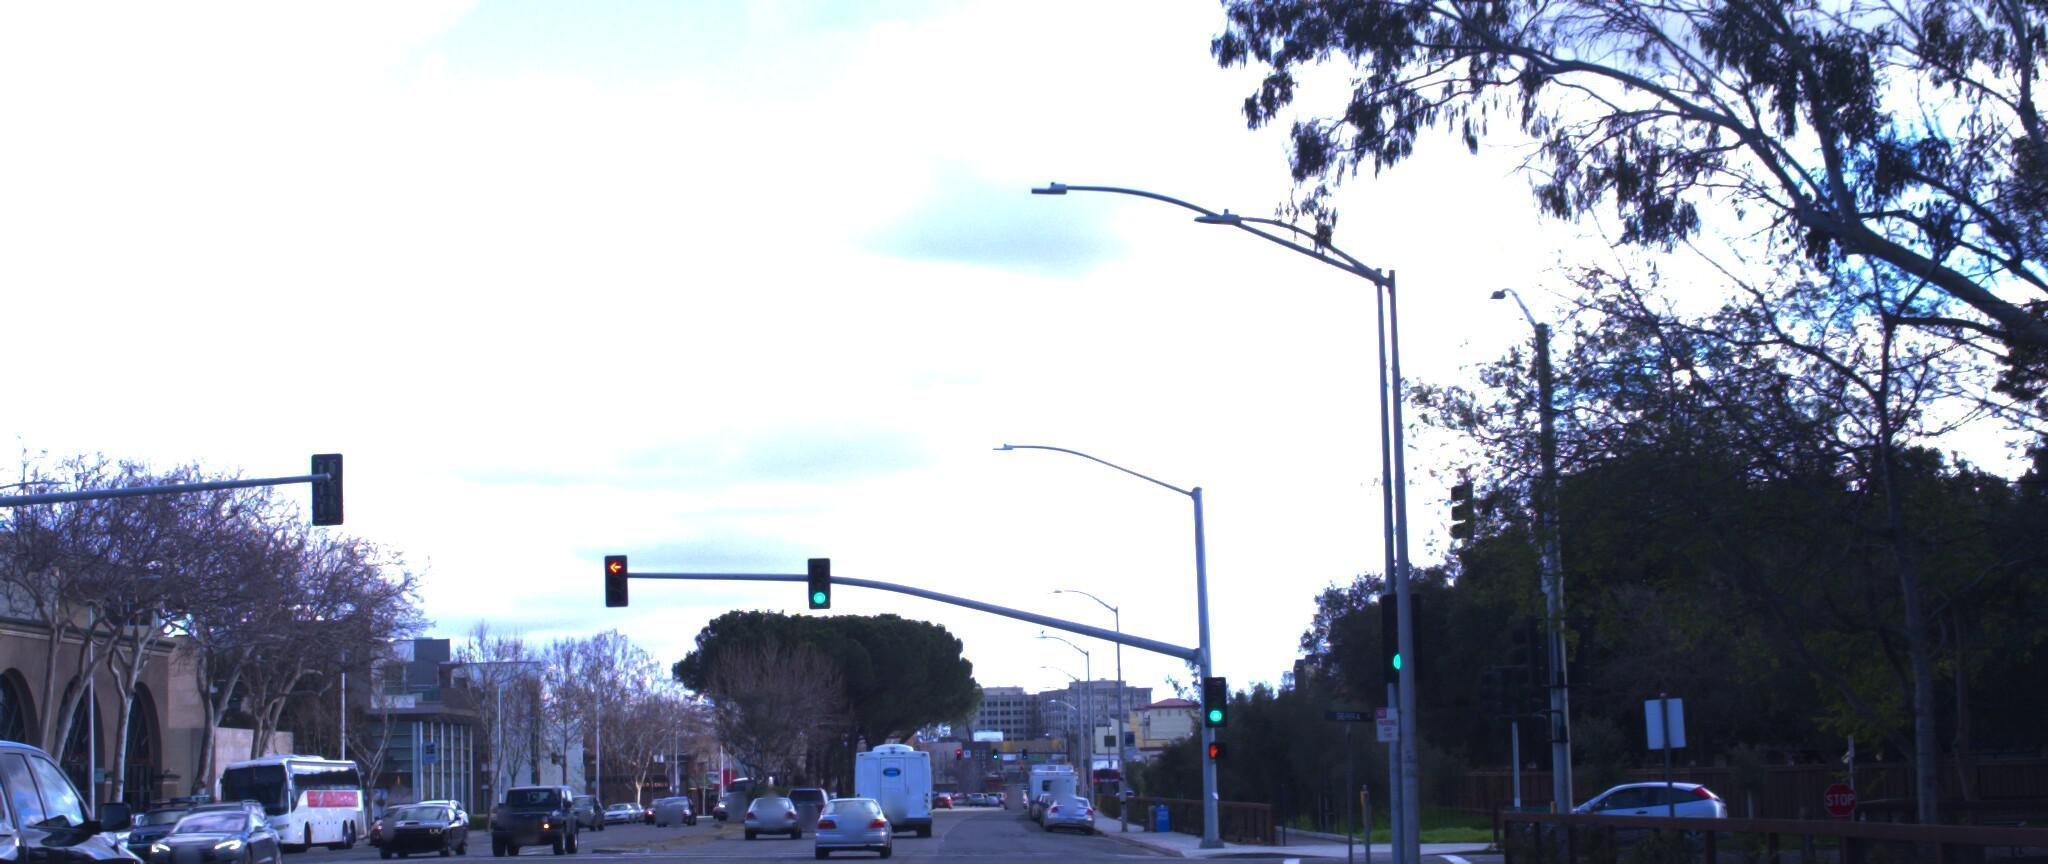car: (0, 689, 191, 864), (1505, 761, 1721, 838), (135, 778, 295, 861), (490, 765, 584, 839), (810, 775, 899, 848)
